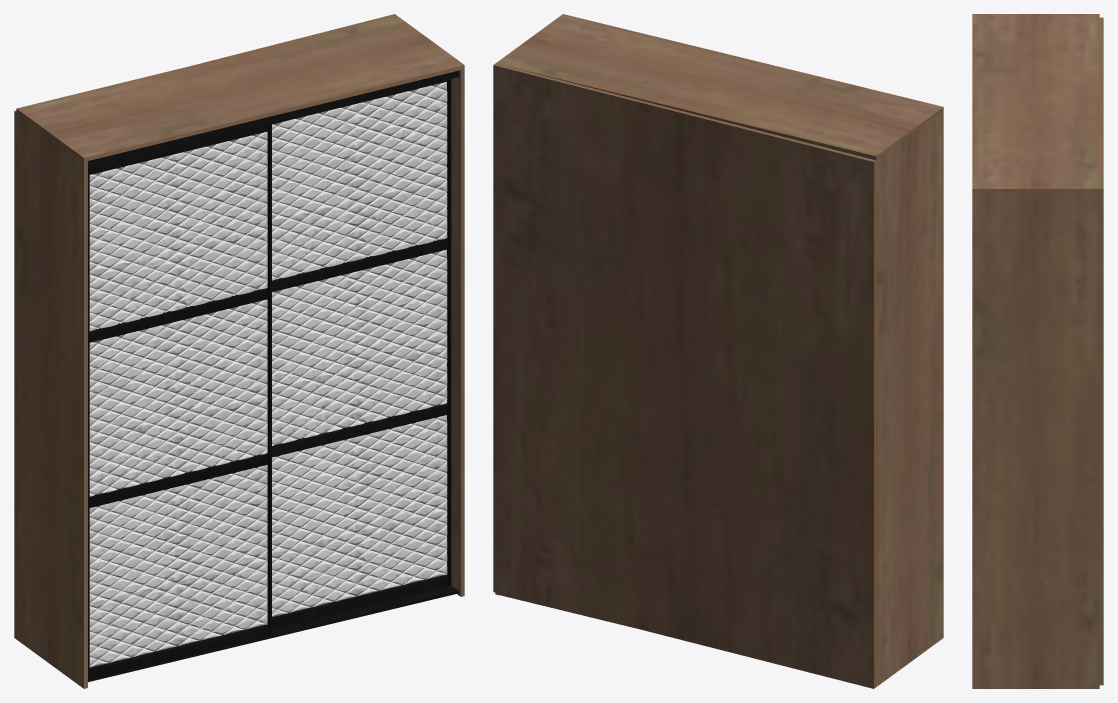
3 renders of one model, left to right at view 1: azimuth 30°, elevation 25°; view 2: azimuth 150°, elevation 25°; view 3: azimuth 270°, elevation 25°, orthographic. The views are drawn at different scales.
Size of the model in its own units: 1799 by 2397 by 572.
